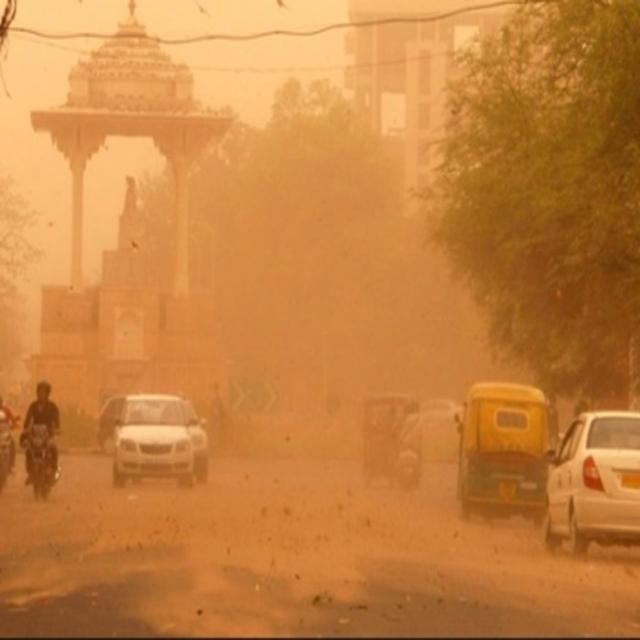Car: (546, 412, 640, 559), (105, 378, 201, 482)
Cycle: (20, 366, 66, 509)
Van: (455, 382, 544, 525)
